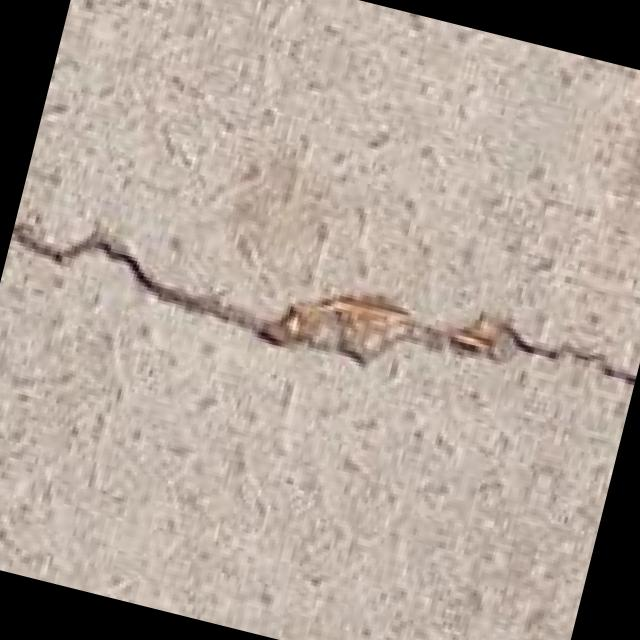crack: (0, 112, 640, 514)
